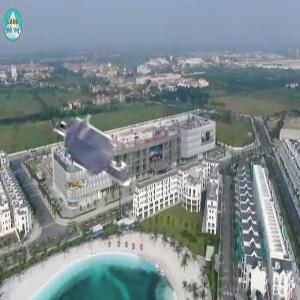drone: (21, 78, 162, 219)
